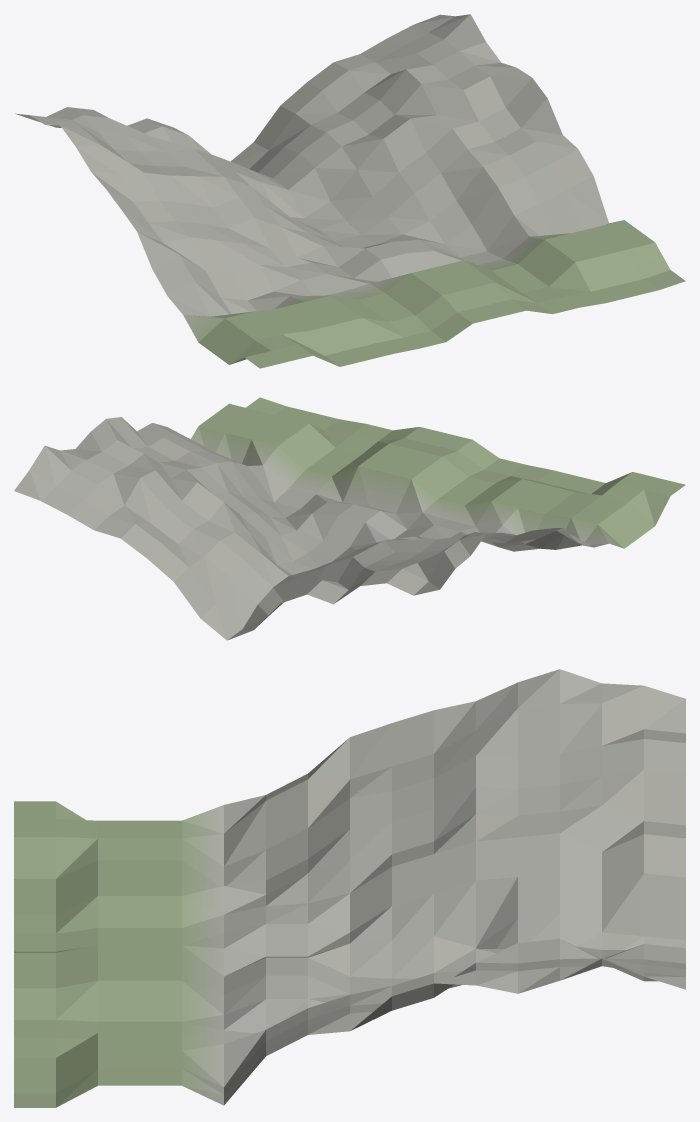
3 views of the same model, one above another, from view 1: azimuth 30°, elevation 25°; view 2: azimuth 150°, elevation 25°; view 3: azimuth 270°, elevation 25° (orthographic). The views are drawn at different scales.
Bounding box in the file's own units: 32 × 8.96 × 32.
